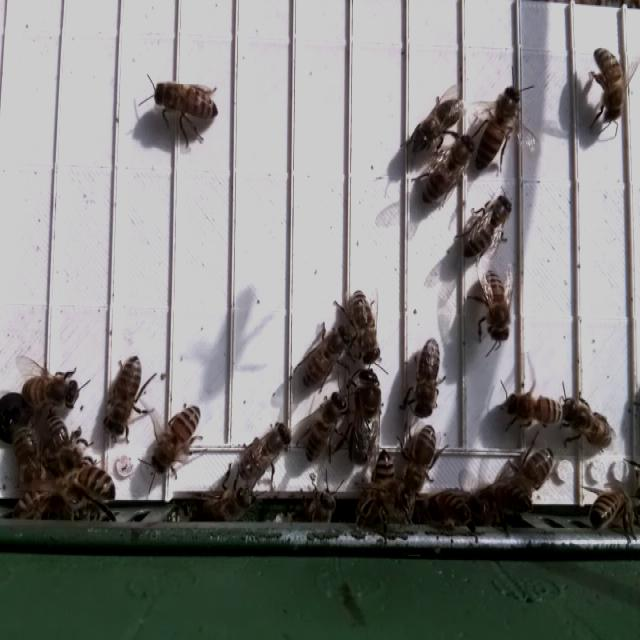Drone: (345, 363, 384, 467)
Worker: (471, 79, 522, 175), (99, 349, 145, 445), (418, 131, 475, 207), (235, 417, 295, 485), (149, 400, 202, 476), (406, 94, 466, 160), (463, 190, 515, 263), (151, 76, 221, 128), (589, 47, 630, 127), (559, 398, 618, 452), (298, 326, 347, 390), (346, 286, 384, 368), (20, 364, 82, 414), (303, 388, 344, 463), (401, 420, 441, 496), (411, 331, 444, 421), (499, 388, 564, 431), (511, 441, 558, 498), (479, 268, 513, 345), (585, 487, 639, 532)
